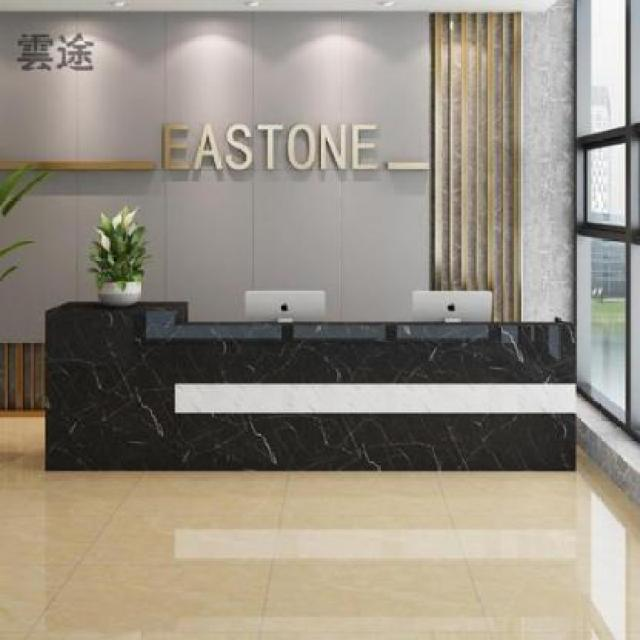frontdesk: (40, 289, 585, 480)
